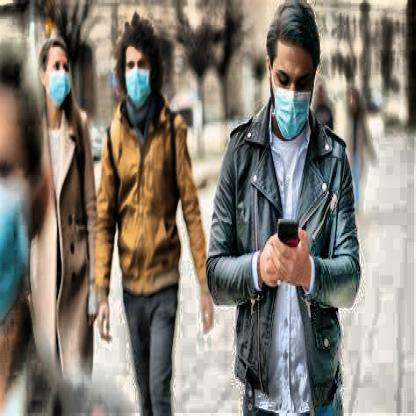not_wear: (266, 0, 315, 124), (117, 22, 164, 112)
